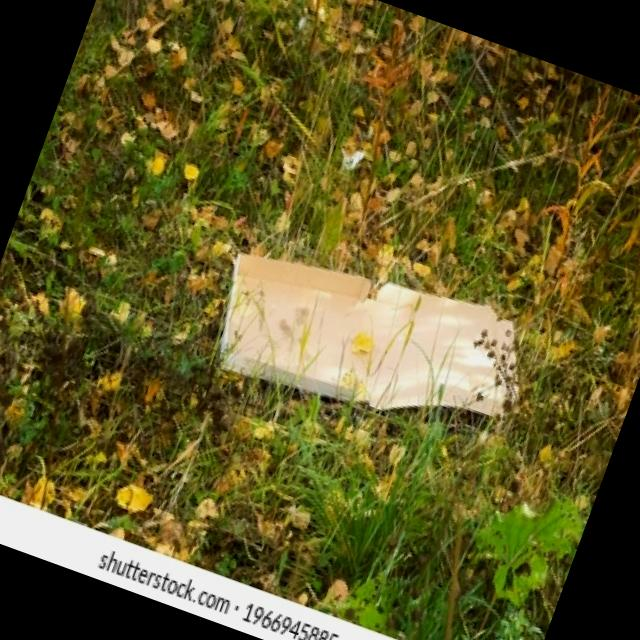Food Carton: (208, 215, 544, 458)
